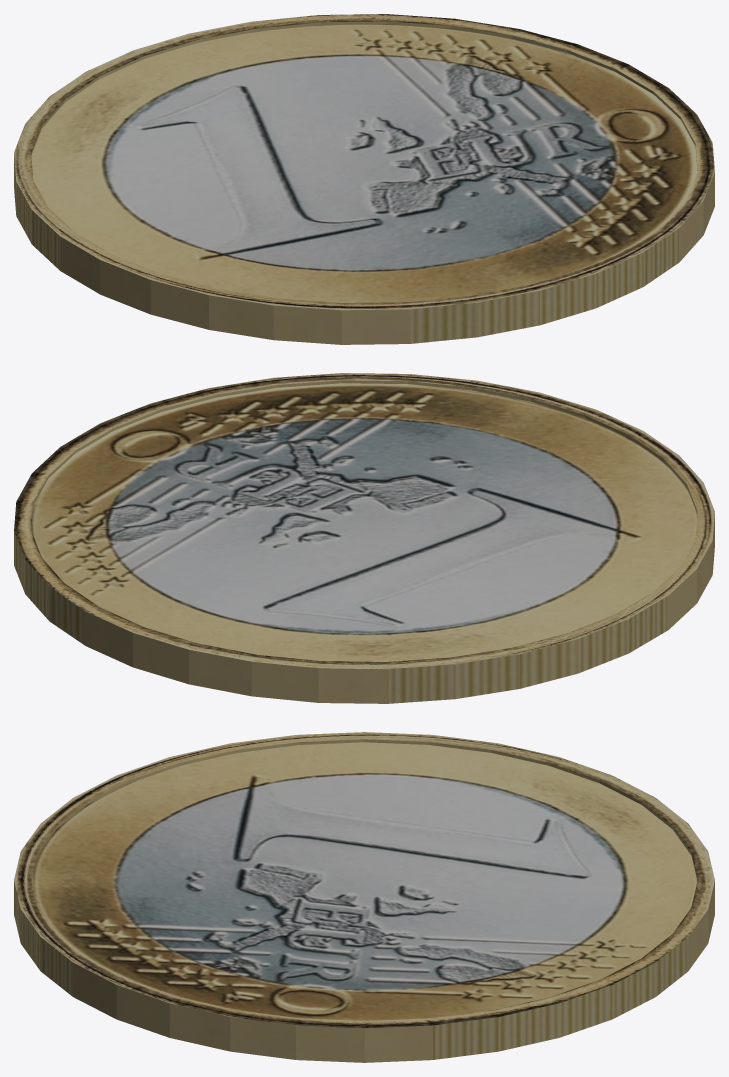
Rendered from one-euro-coin-user.glb.
The picture shows the model from 3 angles, top to bottom: view 1: azimuth 30°, elevation 25°; view 2: azimuth 150°, elevation 25°; view 3: azimuth 270°, elevation 25°; orthographic projection.
Parts seen in each view (by area): view 1: User_1Euro_Textured; view 2: User_1Euro_Textured; view 3: User_1Euro_Textured.
Boxes of the visible parts, x1,y1,x2,y2 form: User_1Euro_Textured: [14, 14, 714, 344]; User_1Euro_Textured: [14, 373, 714, 703]; User_1Euro_Textured: [14, 732, 714, 1062].
Size of the model in its own units: 0.17 by 0.00925 by 0.17.
Materials: 1 (1 with a texture image).
